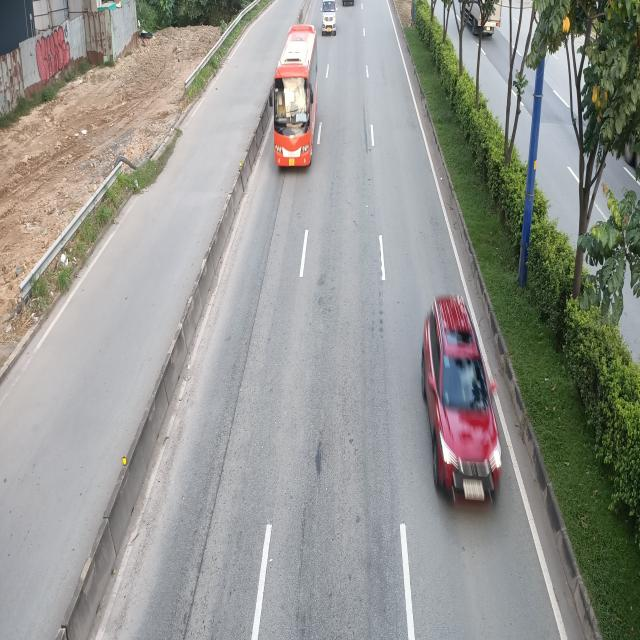car: (418, 296, 498, 514)
coach: (267, 21, 319, 168)
van: (320, 0, 337, 34)
